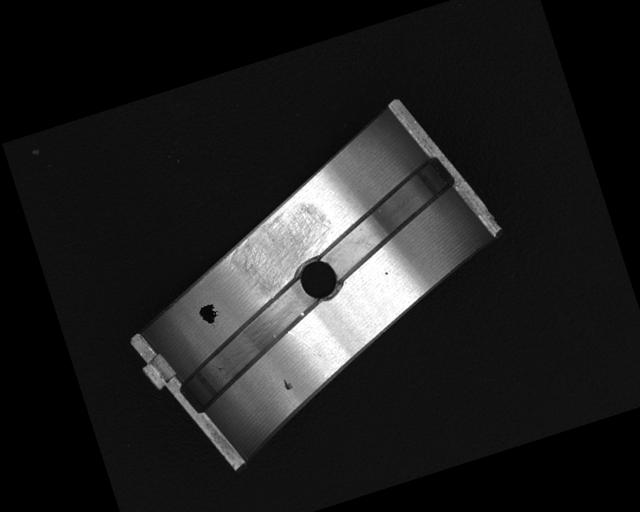blot: (197, 302, 221, 326)
bruise: (280, 376, 294, 393), (383, 270, 389, 276)
gap: (156, 274, 337, 416), (303, 150, 475, 284)
hole: (288, 250, 348, 311)
nick: (286, 324, 320, 364)
scratch: (217, 194, 347, 302)
